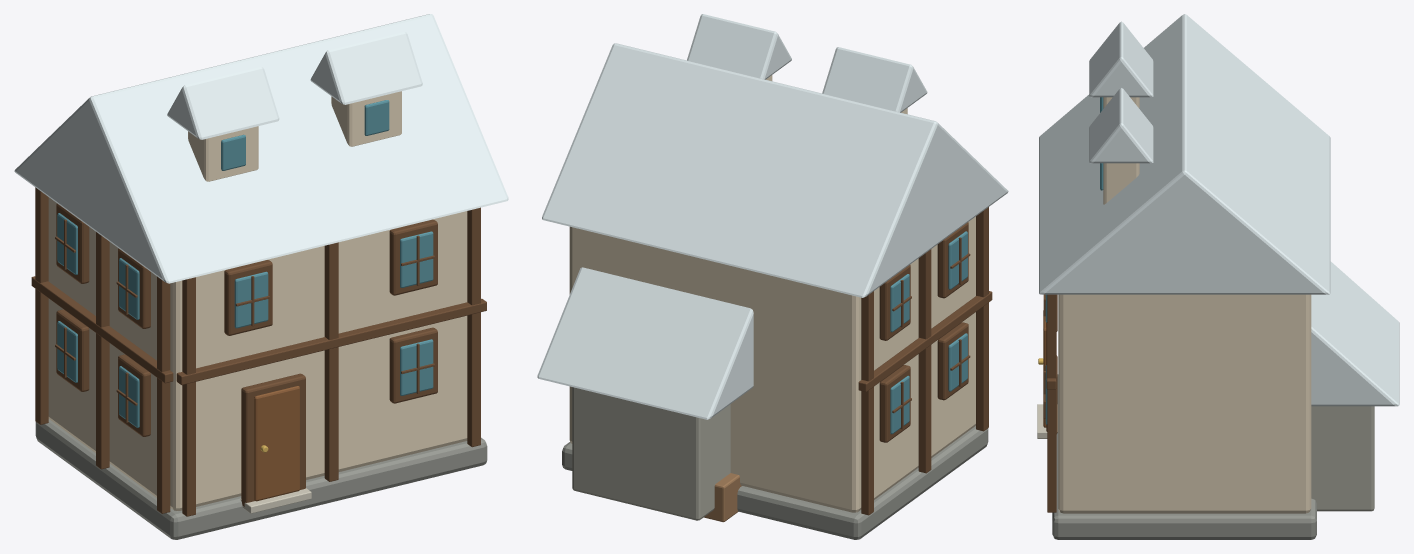
File: snowy-townhouse-3.glb
3 views of the same model, side by side, from view 1: azimuth 30°, elevation 25°; view 2: azimuth 150°, elevation 25°; view 3: azimuth 270°, elevation 25° (orthographic). The views are drawn at different scales.
Parts seen in each view (by area): view 1: Snow, Warm lime, Dark beams, Foundation stone, Blue glass, Door oak, Cut limestone; view 2: Snow, Warm lime, Fieldstone, Dark beams, Foundation stone, Blue glass, Aged oak; view 3: Snow, Warm lime, Foundation stone, Fieldstone, Dark beams.
Part boxes in pixels (x1,y1,x2,y2): Snow: (14, 14, 508, 283); Warm lime: (48, 91, 467, 511); Dark beams: (31, 187, 486, 516); Foundation stone: (35, 419, 487, 539); Blue glass: (57, 100, 433, 427); Door oak: (254, 386, 299, 501); Cut limestone: (240, 488, 311, 513); Snow: (537, 14, 1008, 419); Warm lime: (569, 75, 975, 512); Fieldstone: (572, 387, 730, 520); Dark beams: (858, 207, 992, 515); Foundation stone: (562, 426, 988, 539); Blue glass: (890, 231, 967, 434); Aged oak: (704, 473, 741, 522); Snow: (1039, 14, 1399, 406); Warm lime: (1058, 97, 1311, 513); Foundation stone: (1052, 374, 1316, 539); Fieldstone: (1311, 406, 1374, 511); Dark beams: (1043, 294, 1057, 512).
Bounding box in the file's own units: 3.94 × 4.59 × 3.8.
